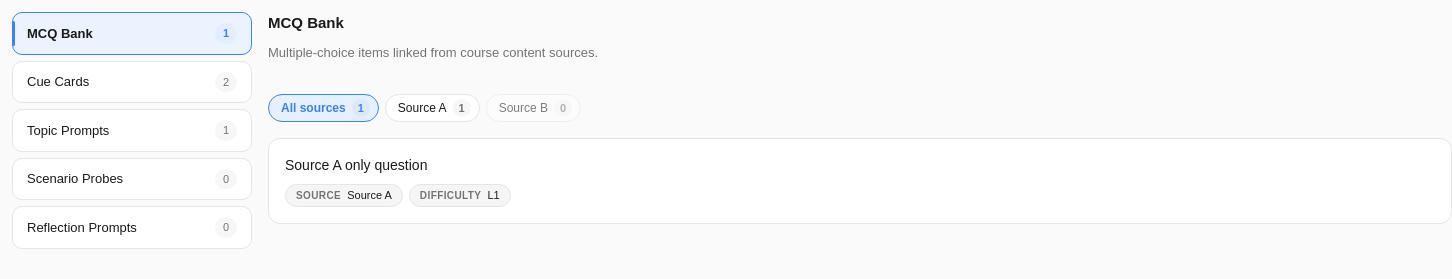
it: <CourseContentTab> — Content tab skeleton (#2204) › renders the filtered-empty state when an active filter hides every item
Click the button with test id "hf-content-chip-source-src-b" at x=533, y=108, box [486, 94, 581, 122]
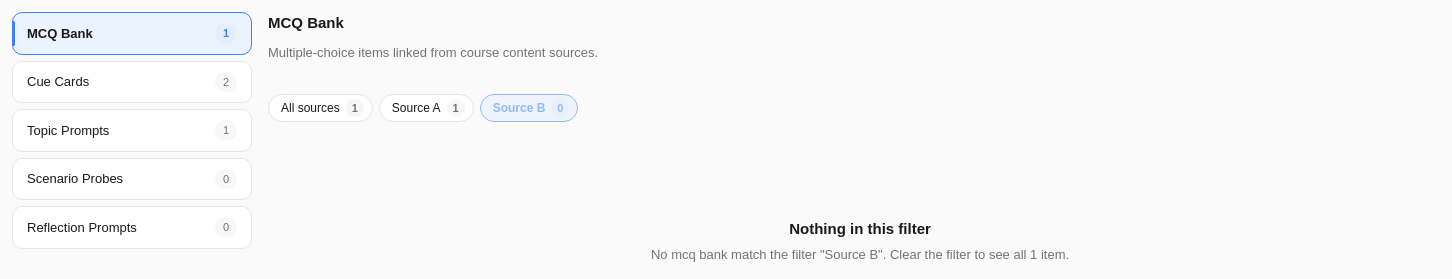
Now the element with test id "hf-content-empty-filtered" is shown, box [651, 220, 1069, 262]
